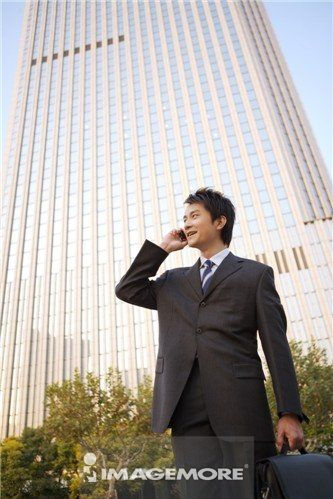talk: (161, 207, 211, 254)
